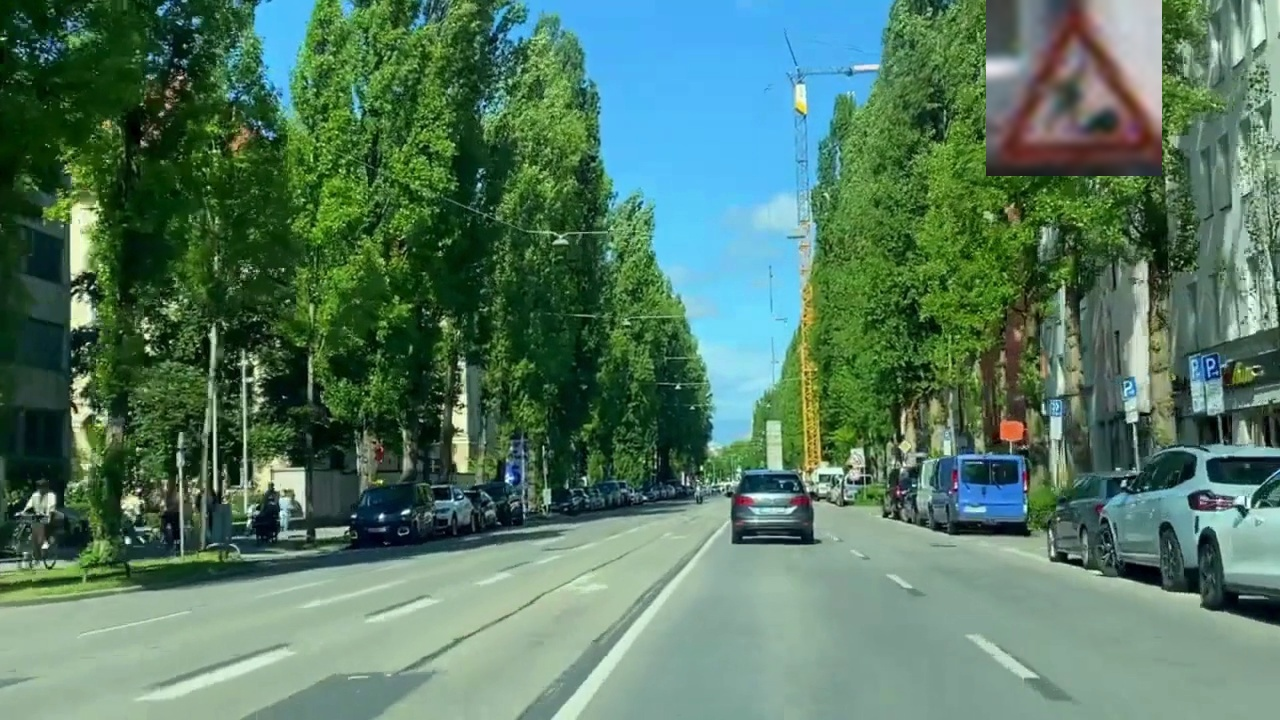Road work: (986, 0, 1162, 176)
